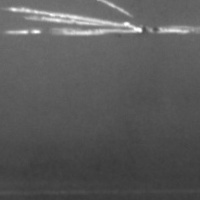scratches: (3, 0, 199, 39)
